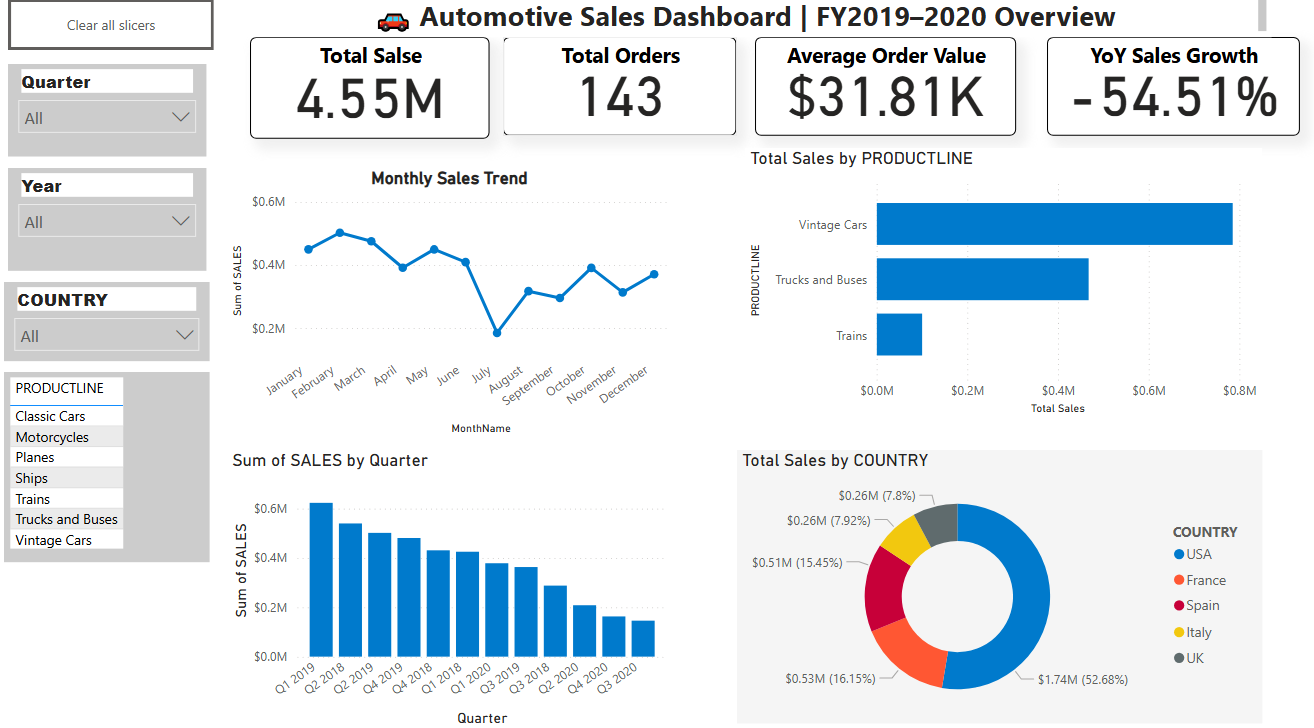

This screenshot's page, from the dashboard's own definition file:
{"tool":"powerbi","page":{"name":"Page 1","canvas":[1280,720],"ordinal":0},"visuals":[{"type":"lineChart","title":"Monthly Sales Trend","fields":{"Category":["raw.MonthName"],"Y":["Sum(raw.SALES)"]},"box":[220.8,172,432.7,263.3],"z":0},{"type":"clusteredColumnChart","fields":{"Category":["raw.Quarter"],"Y":["Sum(raw.SALES)"]},"box":[220.8,446,432.7,274],"z":1000},{"type":"slicer","fields":{"Values":["raw.Quarter"]},"box":[7.8,71,192.6,90.5],"z":2000},{"type":"tableEx","fields":{"Values":["raw.PRODUCTLINE"]},"box":[3.9,370.6,200.4,184.8],"z":3000},{"type":"slicer","fields":{"Values":["raw.Year"]},"box":[7.8,172.2,192.6,100.2],"z":4000},{"type":"actionButton","box":[7.8,7.8,200.4,49.6],"z":5000},{"type":"slicer","fields":{"Values":["raw.COUNTRY"]},"box":[3.9,283,200.4,76.8],"z":6000},{"type":"card","title":"Total Salse","fields":{"Values":["raw.Total Sales"]},"box":[243,45.2,233.2,99.3],"z":7000},{"type":"card","title":"Average  Order  Value","fields":{"Values":["raw.Average  Order Value"]},"box":[734.2,45.2,253.6,95.8],"z":8000},{"type":"card","title":"YoY Sales Growth","fields":{"Values":["raw.YoY Sales Growth %"]},"box":[1017.9,45.2,245.6,95.8],"z":9000},{"type":"donutChart","fields":{"Category":["raw.COUNTRY"],"Y":["raw.Total Sales"]},"box":[716.5,446,510.7,266],"z":10000},{"type":"card","title":"Total Orders","fields":{"Values":["raw.Total Orders"]},"box":[489.5,45.2,227,95.8],"z":11000},{"type":"textbox","box":[220.8,0,1016.2,45.2],"z":12000},{"type":"clusteredBarChart","fields":{"Category":["raw.PRODUCTLINE"],"Y":["raw.Total Sales"]},"box":[724.6,152.7,502.9,263.6],"z":13000}]}

Visuals, with their boxes in screenshot pixels (x1, y1, x2, y2), scaled from the page's 1280x720 canvas onto the 1314x728 screenshot:
"Monthly Sales Trend" lineChart: [left=227, top=174, right=671, bottom=440]
clusteredColumnChart - raw.Quarter x Sum(raw.SALES): [left=227, top=451, right=671, bottom=727]
slicer - raw.Quarter: [left=8, top=72, right=206, bottom=163]
tableEx - raw.PRODUCTLINE: [left=4, top=375, right=210, bottom=562]
slicer - raw.Year: [left=8, top=174, right=206, bottom=275]
actionButton: [left=8, top=8, right=214, bottom=58]
slicer - raw.COUNTRY: [left=4, top=286, right=210, bottom=364]
"Total Salse" card: [left=249, top=46, right=489, bottom=146]
"Average  Order  Value" card: [left=754, top=46, right=1014, bottom=143]
"YoY Sales Growth" card: [left=1045, top=46, right=1297, bottom=143]
donutChart - raw.COUNTRY x raw.Total Sales: [left=736, top=451, right=1260, bottom=720]
"Total Orders" card: [left=503, top=46, right=736, bottom=143]
textbox: [left=227, top=0, right=1270, bottom=46]
clusteredBarChart - raw.PRODUCTLINE x raw.Total Sales: [left=744, top=154, right=1260, bottom=421]
